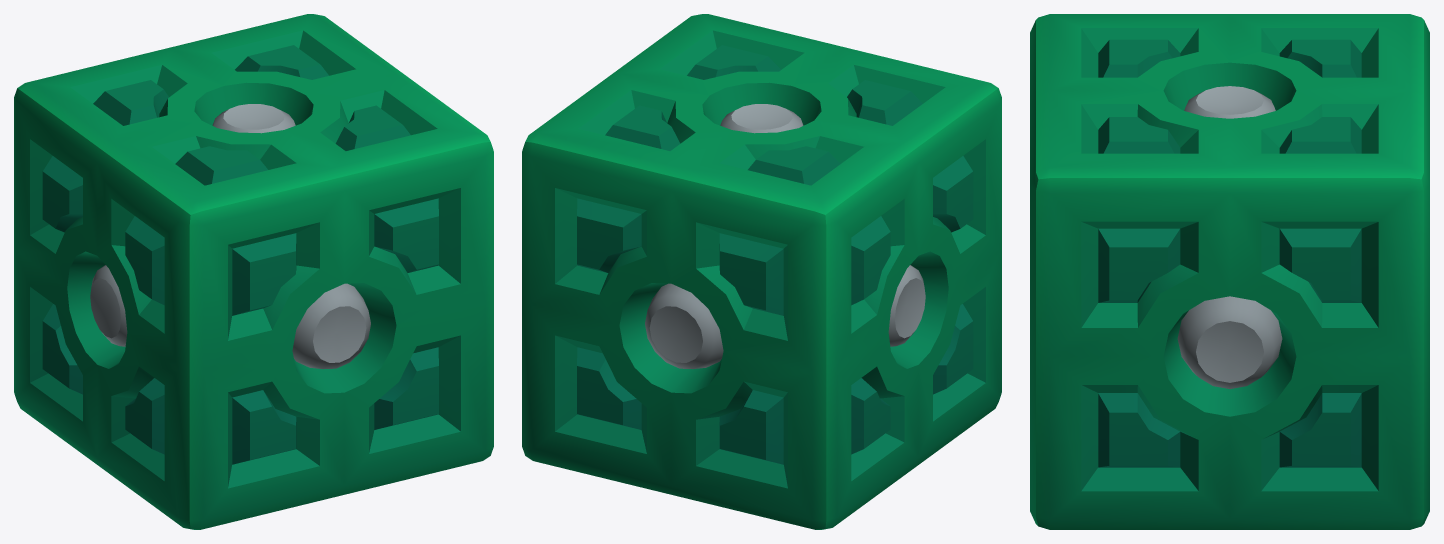
The model's file is decorative_block_green.glb.
The picture shows the model from 3 angles, left to right: view 1: azimuth 30°, elevation 25°; view 2: azimuth 150°, elevation 25°; view 3: azimuth 270°, elevation 25°; orthographic projection. The views are drawn at different scales.
Visible parts, largest first — view 1: decorative_block_green; view 2: decorative_block_green; view 3: decorative_block_green.
Boxes of the visible parts, x1,y1,x2,y2 form: decorative_block_green: [14, 14, 493, 529]; decorative_block_green: [522, 14, 1001, 529]; decorative_block_green: [1030, 14, 1429, 529].
Bounding box in the file's own units: 2 × 2 × 2.
1 material, 1 textured.
